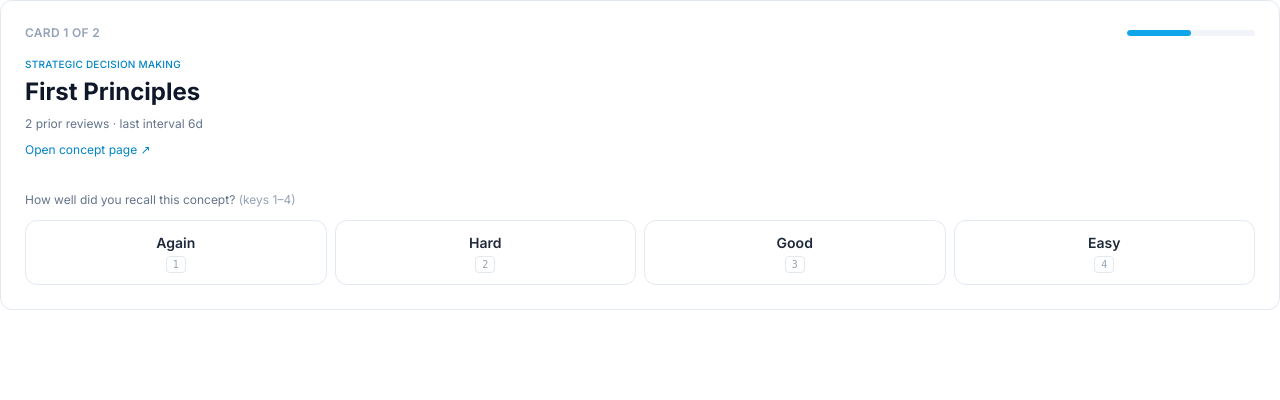
Test: ReviewSession › shows session summary with rating counts after last card
expect the heading "First Principles" is shown: met, box [25, 77, 200, 106]
Click the button with test id "rate-again". click: (176, 252)
box: [25, 220, 326, 285]
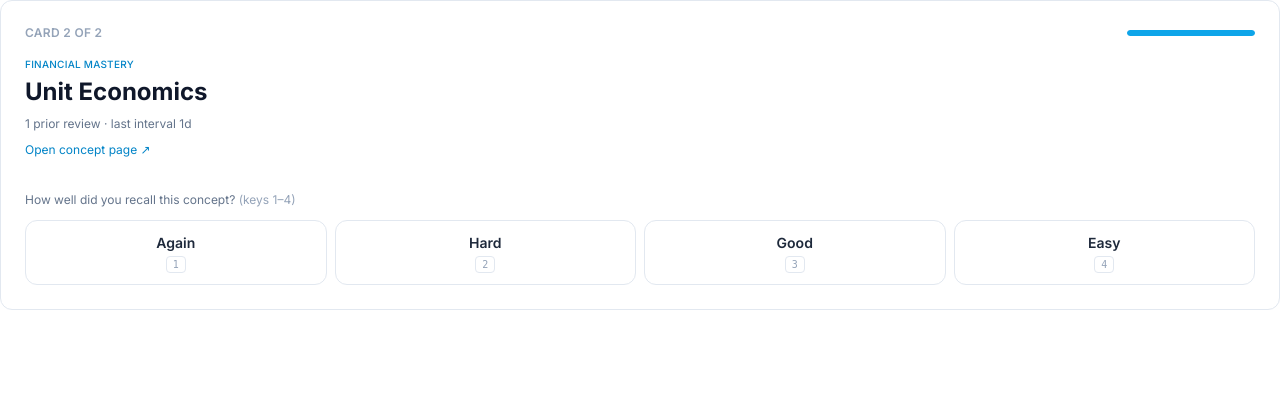
expect the heading "Unit Economics" is shown: met, box [25, 77, 208, 106]
Click the button with test id "rate-easy". click: (1104, 252)
box: [954, 220, 1255, 285]
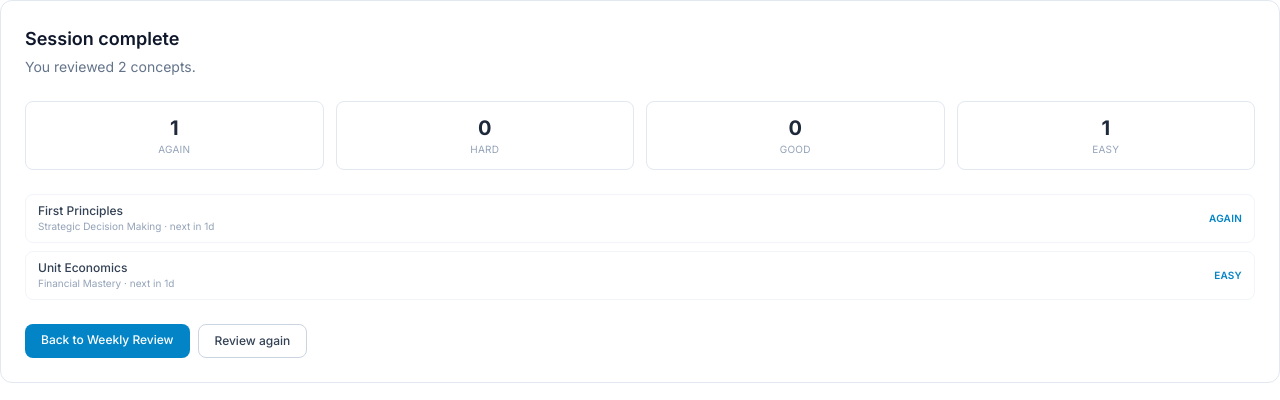
expect the element with test id "review-session-summary" is shown: met
expect the text "You reviewed 2 concepts." is shown: met, box [25, 58, 196, 75]
expect the element with test id "summary-count-again" shows "1": met, box [170, 116, 178, 140]
